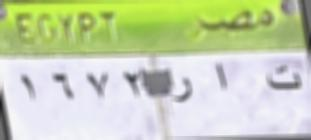1: (16, 72, 39, 107)
2: (115, 66, 148, 102)
6: (46, 66, 78, 107)
7: (86, 68, 112, 105)
alif: (208, 60, 234, 95)
raa: (169, 74, 197, 109)
taa: (258, 62, 307, 100)
